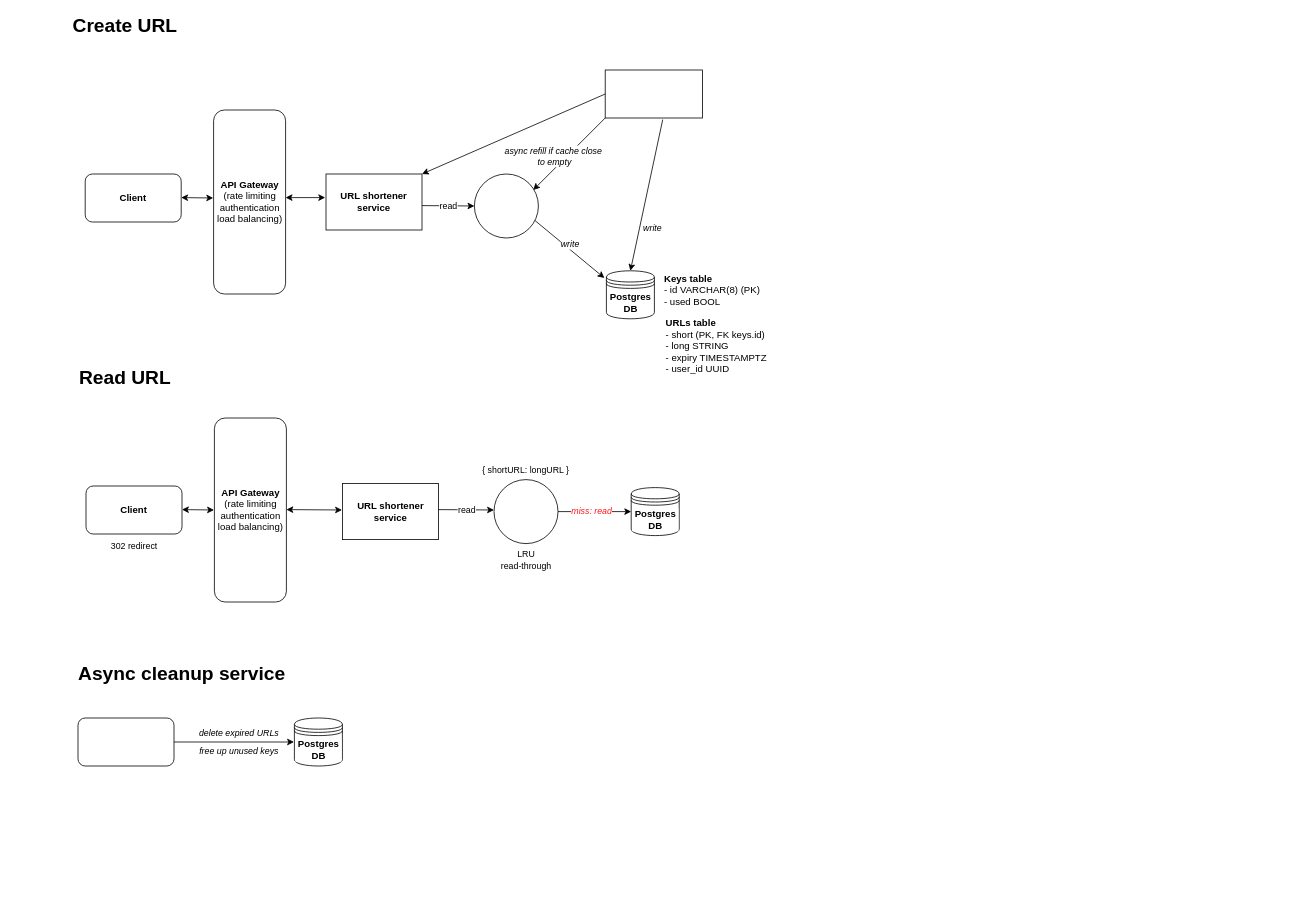
Some shapes in this 1299 by 898 pixel diagram are drawn without their labels. Each missing label, with the box of its shape:
Cleanup (cron): (77, 717, 174, 766)
Key generation (cron): (604, 69, 702, 118)
Redis keys cache: (474, 173, 538, 238)
Redis URLs cache: (493, 479, 558, 544)
